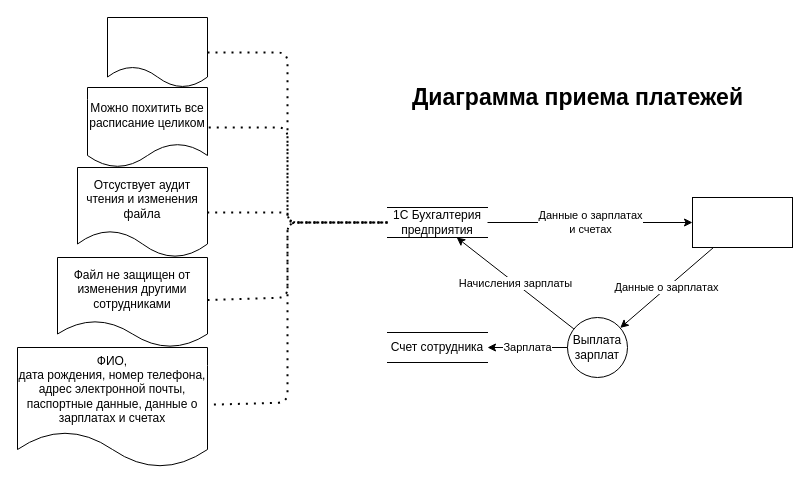
Some shapes in this 810 by 485 pixel diagram are drawn without their labels. Each missing label, with the centre of its shape:
Бухгалтер: (x=742, y=222)
Файл хранит перс.данные в открытом виде: (x=157, y=52)
